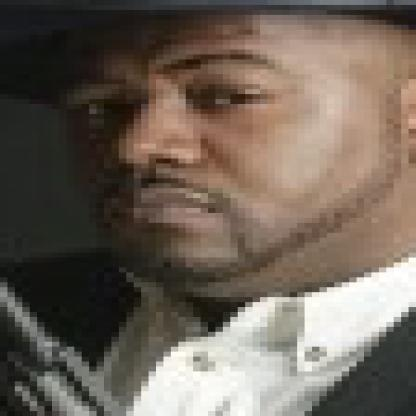gun: (0, 223, 186, 411)
